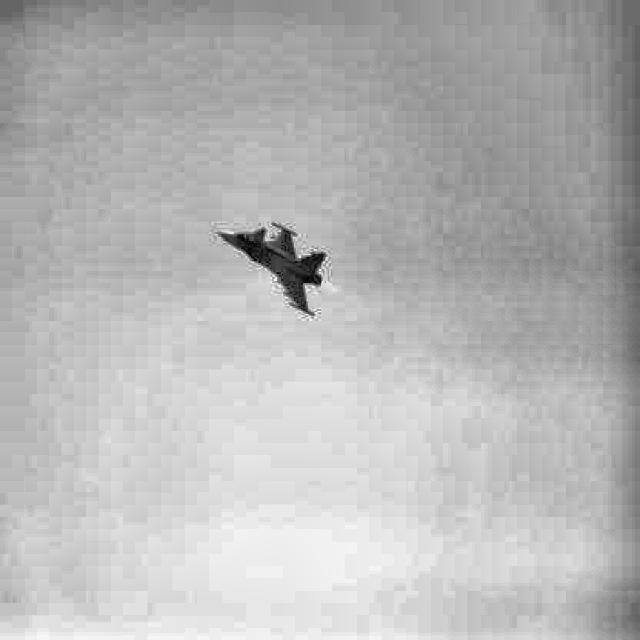JAS39: (212, 221, 326, 317)
